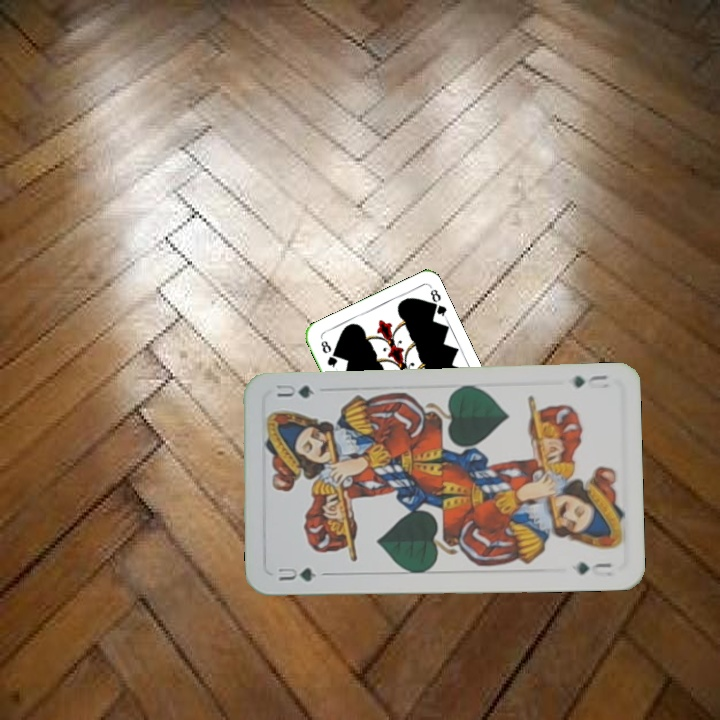G8: (317, 336, 340, 373)
GU: (273, 563, 319, 584), (570, 371, 611, 390)
